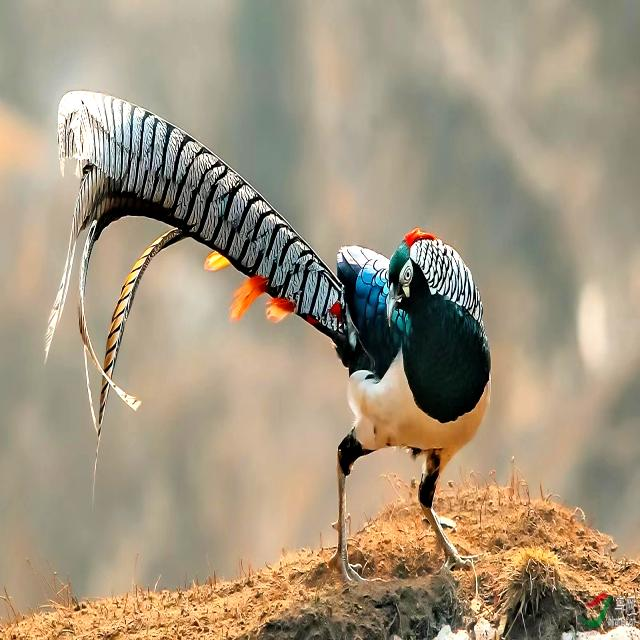Chrysolophus amherstiae: (58, 92, 359, 354)
